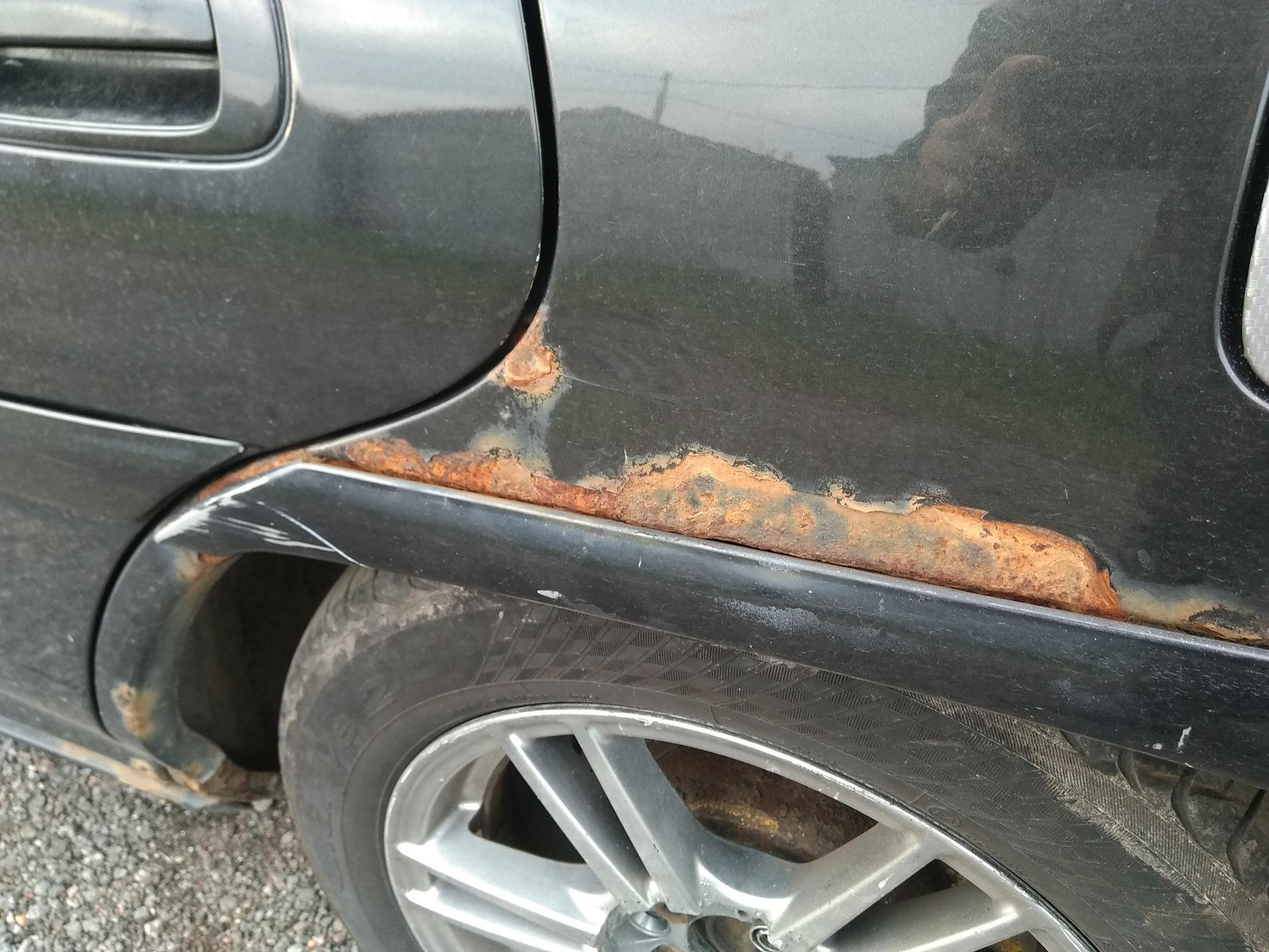corrosion: (345, 440, 1126, 619), (179, 445, 313, 513), (489, 305, 563, 403), (1176, 592, 1266, 651), (107, 673, 168, 754), (169, 534, 225, 603)
